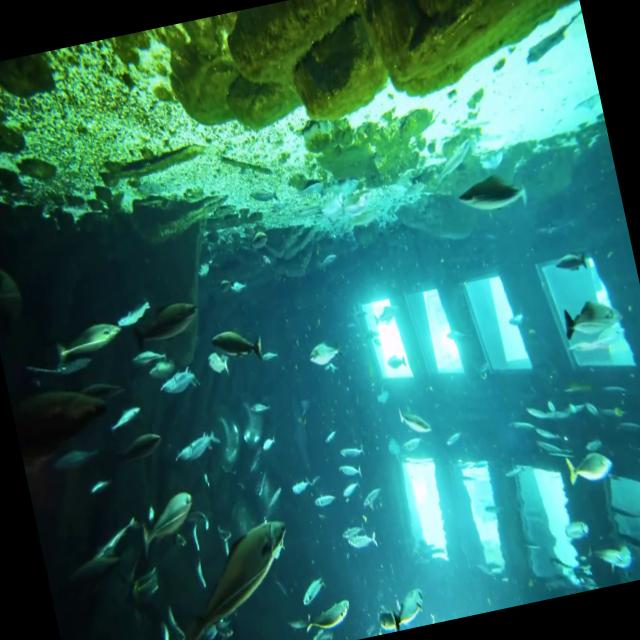fish: (142, 508, 303, 640), (8, 362, 128, 467), (116, 283, 222, 366), (452, 156, 537, 234), (550, 278, 624, 362), (134, 484, 207, 560), (556, 433, 622, 502), (49, 308, 128, 364), (163, 424, 227, 480), (386, 392, 443, 452), (286, 593, 358, 640), (210, 315, 268, 373), (107, 430, 171, 480), (158, 366, 210, 416), (388, 580, 436, 630), (113, 291, 158, 344), (291, 565, 337, 615), (588, 541, 634, 587), (300, 330, 348, 374), (100, 398, 149, 440), (303, 480, 346, 524), (342, 524, 388, 564), (558, 516, 592, 548), (146, 352, 182, 380)
